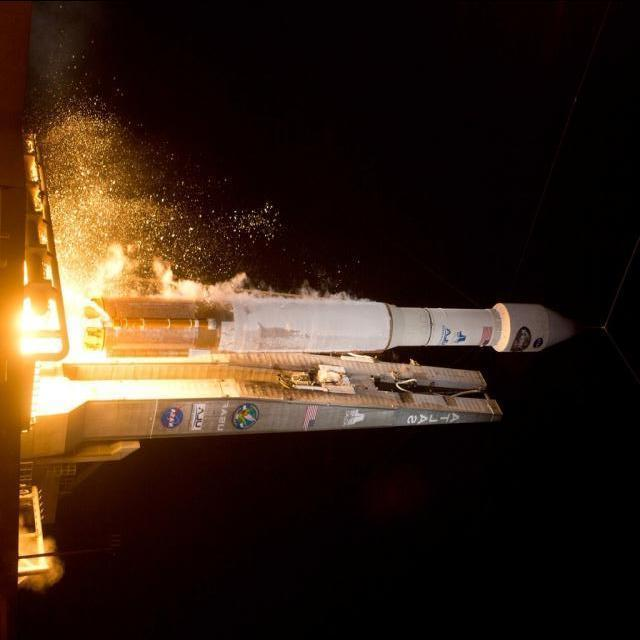missile: (32, 282, 584, 402)
